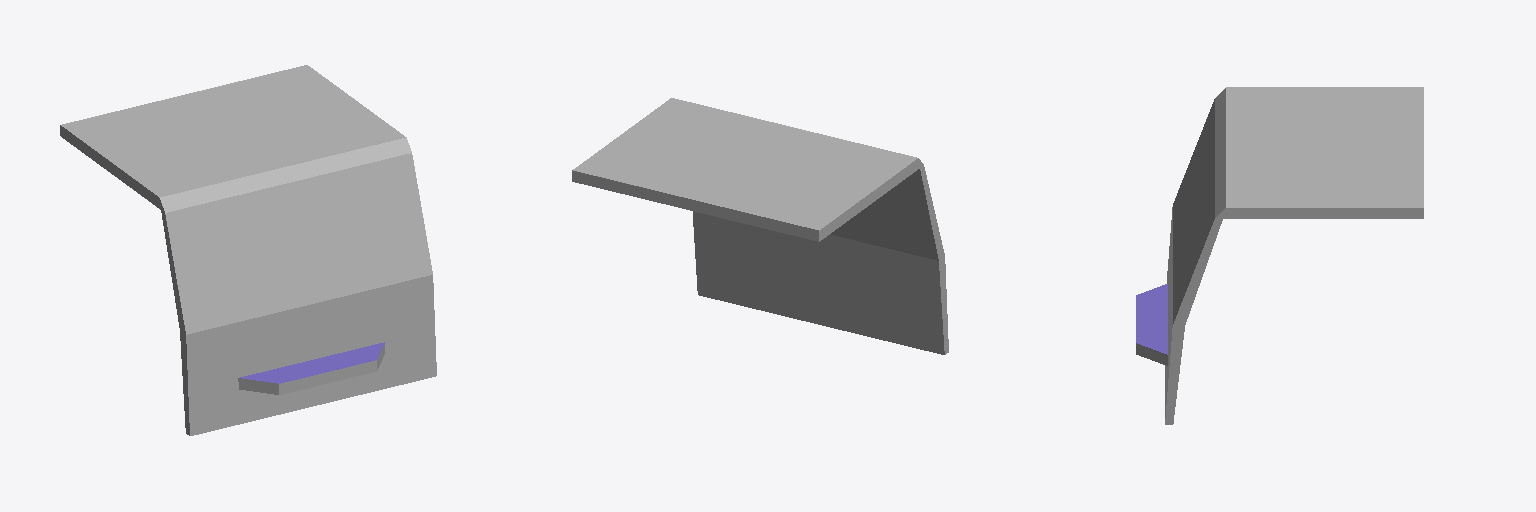
The model's file is infrared_analyzer_cover.obj.
3 renders of one model, left to right at view 1: azimuth 30°, elevation 25°; view 2: azimuth 150°, elevation 25°; view 3: azimuth 270°, elevation 25°, orthographic.
Parts seen in each view (by area): view 1: infrared_analyzer_cover, infrared_analyzer_cover_01; view 2: infrared_analyzer_cover; view 3: infrared_analyzer_cover, infrared_analyzer_cover_01.
Boxes of the visible parts, x1,y1,x2,y2 form: infrared_analyzer_cover: [60, 65, 436, 435]; infrared_analyzer_cover_01: [240, 342, 384, 383]; infrared_analyzer_cover: [572, 98, 948, 354]; infrared_analyzer_cover: [1136, 87, 1423, 424]; infrared_analyzer_cover_01: [1136, 284, 1167, 354].
Size of the model in its own units: 134 by 112 by 135.